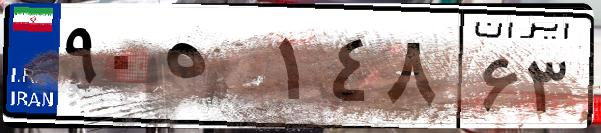0: (110, 28, 158, 98)
1: (270, 28, 330, 110)
3: (525, 38, 570, 115)
4: (330, 28, 385, 110)
6: (475, 38, 525, 113)
8: (385, 28, 445, 110)
9: (57, 26, 110, 100)
ه: (158, 20, 270, 120)
